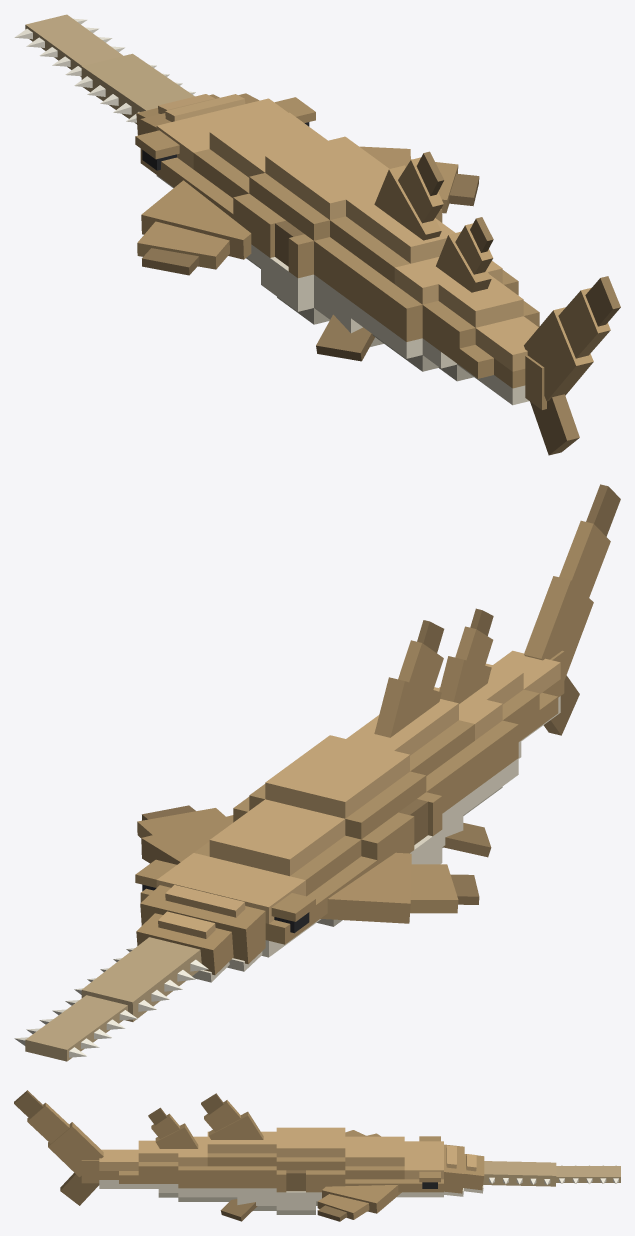
Rendered from Sawfish.obj.
The picture shows the model from 3 angles, top to bottom: view 1: azimuth 30°, elevation 25°; view 2: azimuth 150°, elevation 25°; view 3: azimuth 270°, elevation 25°; orthographic projection. The views are drawn at different scales.
Parts seen in each view (by area): view 1: S1, S3, Head, S2, S4, Tail, S5; view 2: Head, S1, S2, S3, Tail, S4, S5; view 3: Head, S3, S2, S1, S4, Tail, S5.
Part boxes in pixels (bbox=[...]): S1: bbox=[137, 112, 479, 275]; S3: bbox=[314, 151, 455, 361]; Head: bbox=[14, 14, 315, 187]; S2: bbox=[233, 136, 442, 324]; S4: bbox=[378, 217, 518, 381]; Tail: bbox=[524, 276, 620, 455]; S5: bbox=[441, 286, 539, 405]; Head: bbox=[14, 853, 321, 1061]; S1: bbox=[137, 799, 479, 929]; S2: bbox=[233, 735, 442, 864]; S3: bbox=[346, 620, 491, 857]; Tail: bbox=[524, 484, 620, 735]; S4: bbox=[433, 608, 521, 807]; S5: bbox=[485, 650, 560, 740]; Head: bbox=[404, 1136, 620, 1197]; S3: bbox=[201, 1093, 276, 1221]; S2: bbox=[276, 1127, 345, 1214]; S1: bbox=[317, 1130, 404, 1221]; S4: bbox=[148, 1107, 207, 1201]; Tail: bbox=[14, 1090, 103, 1205]; S5: bbox=[99, 1140, 158, 1188].
Bounding box in the file's own units: 8.43 × 5.08 × 24.67.
Materials: 1 (1 with a texture image).
